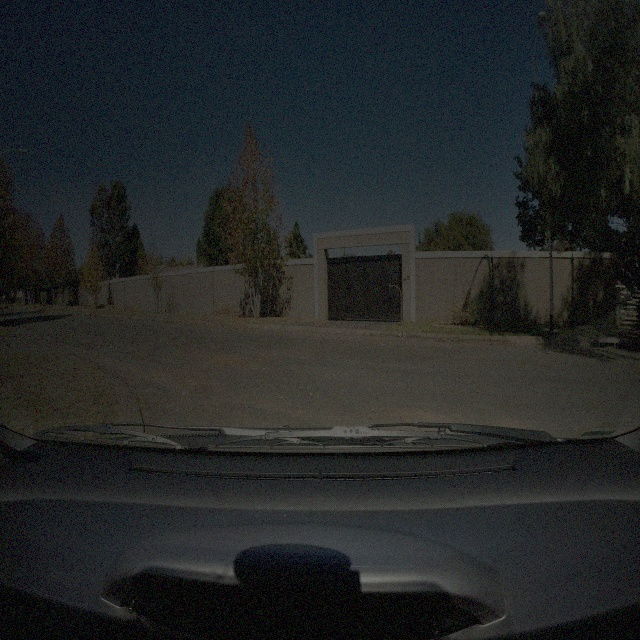pothole: (217, 360, 244, 370), (81, 335, 102, 344)
